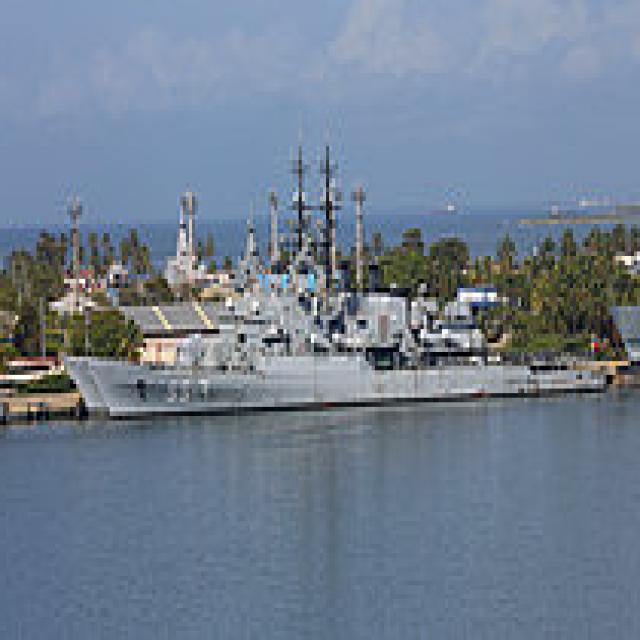Warship: (92, 137, 612, 421), (64, 128, 393, 411)
